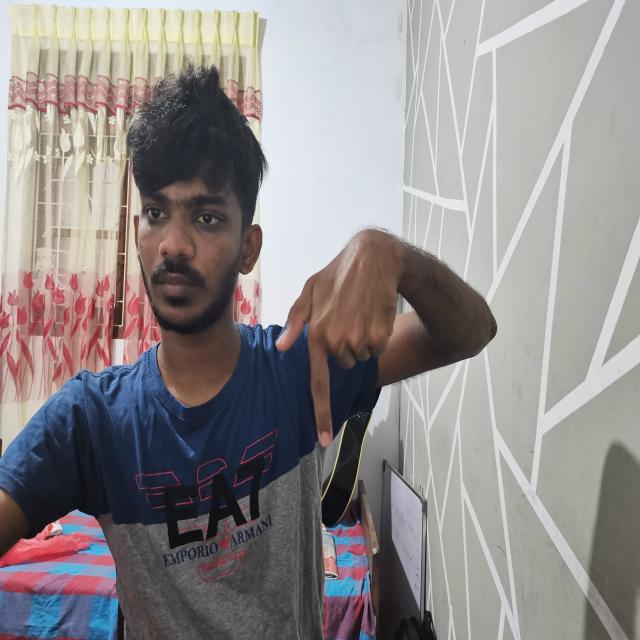Yes: (268, 223, 419, 452)
